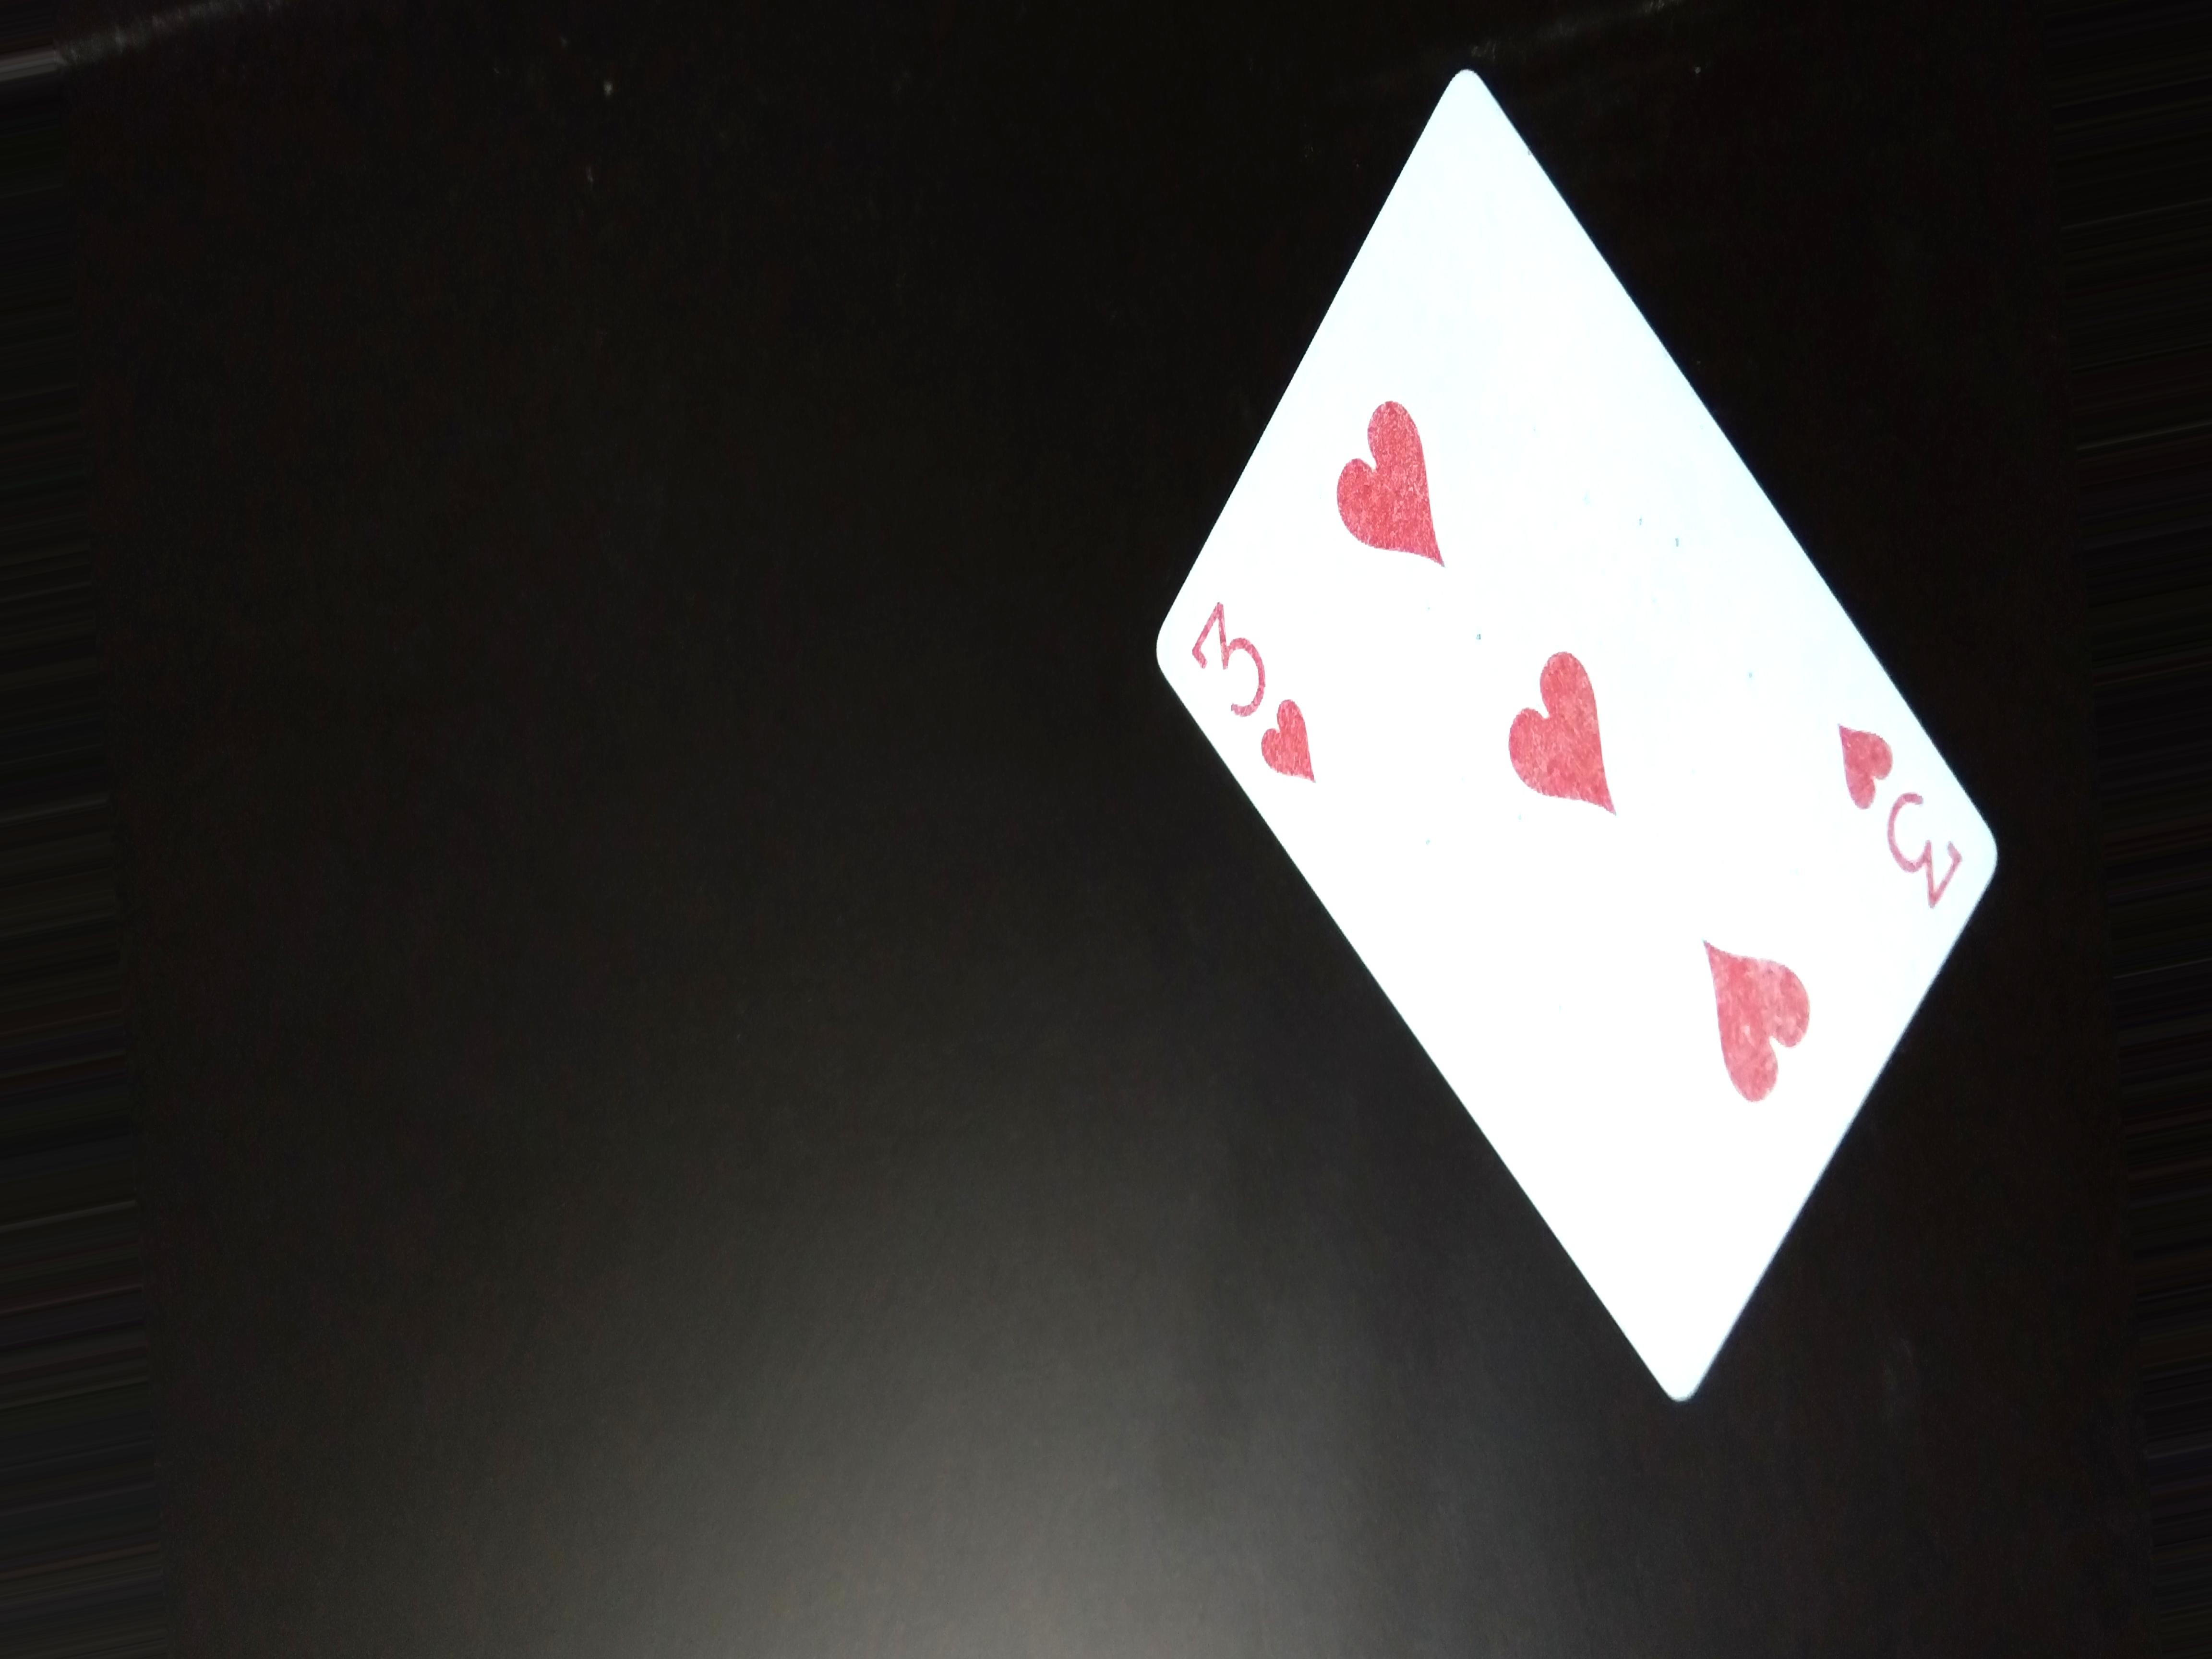3H: (1172, 592, 1367, 800)
